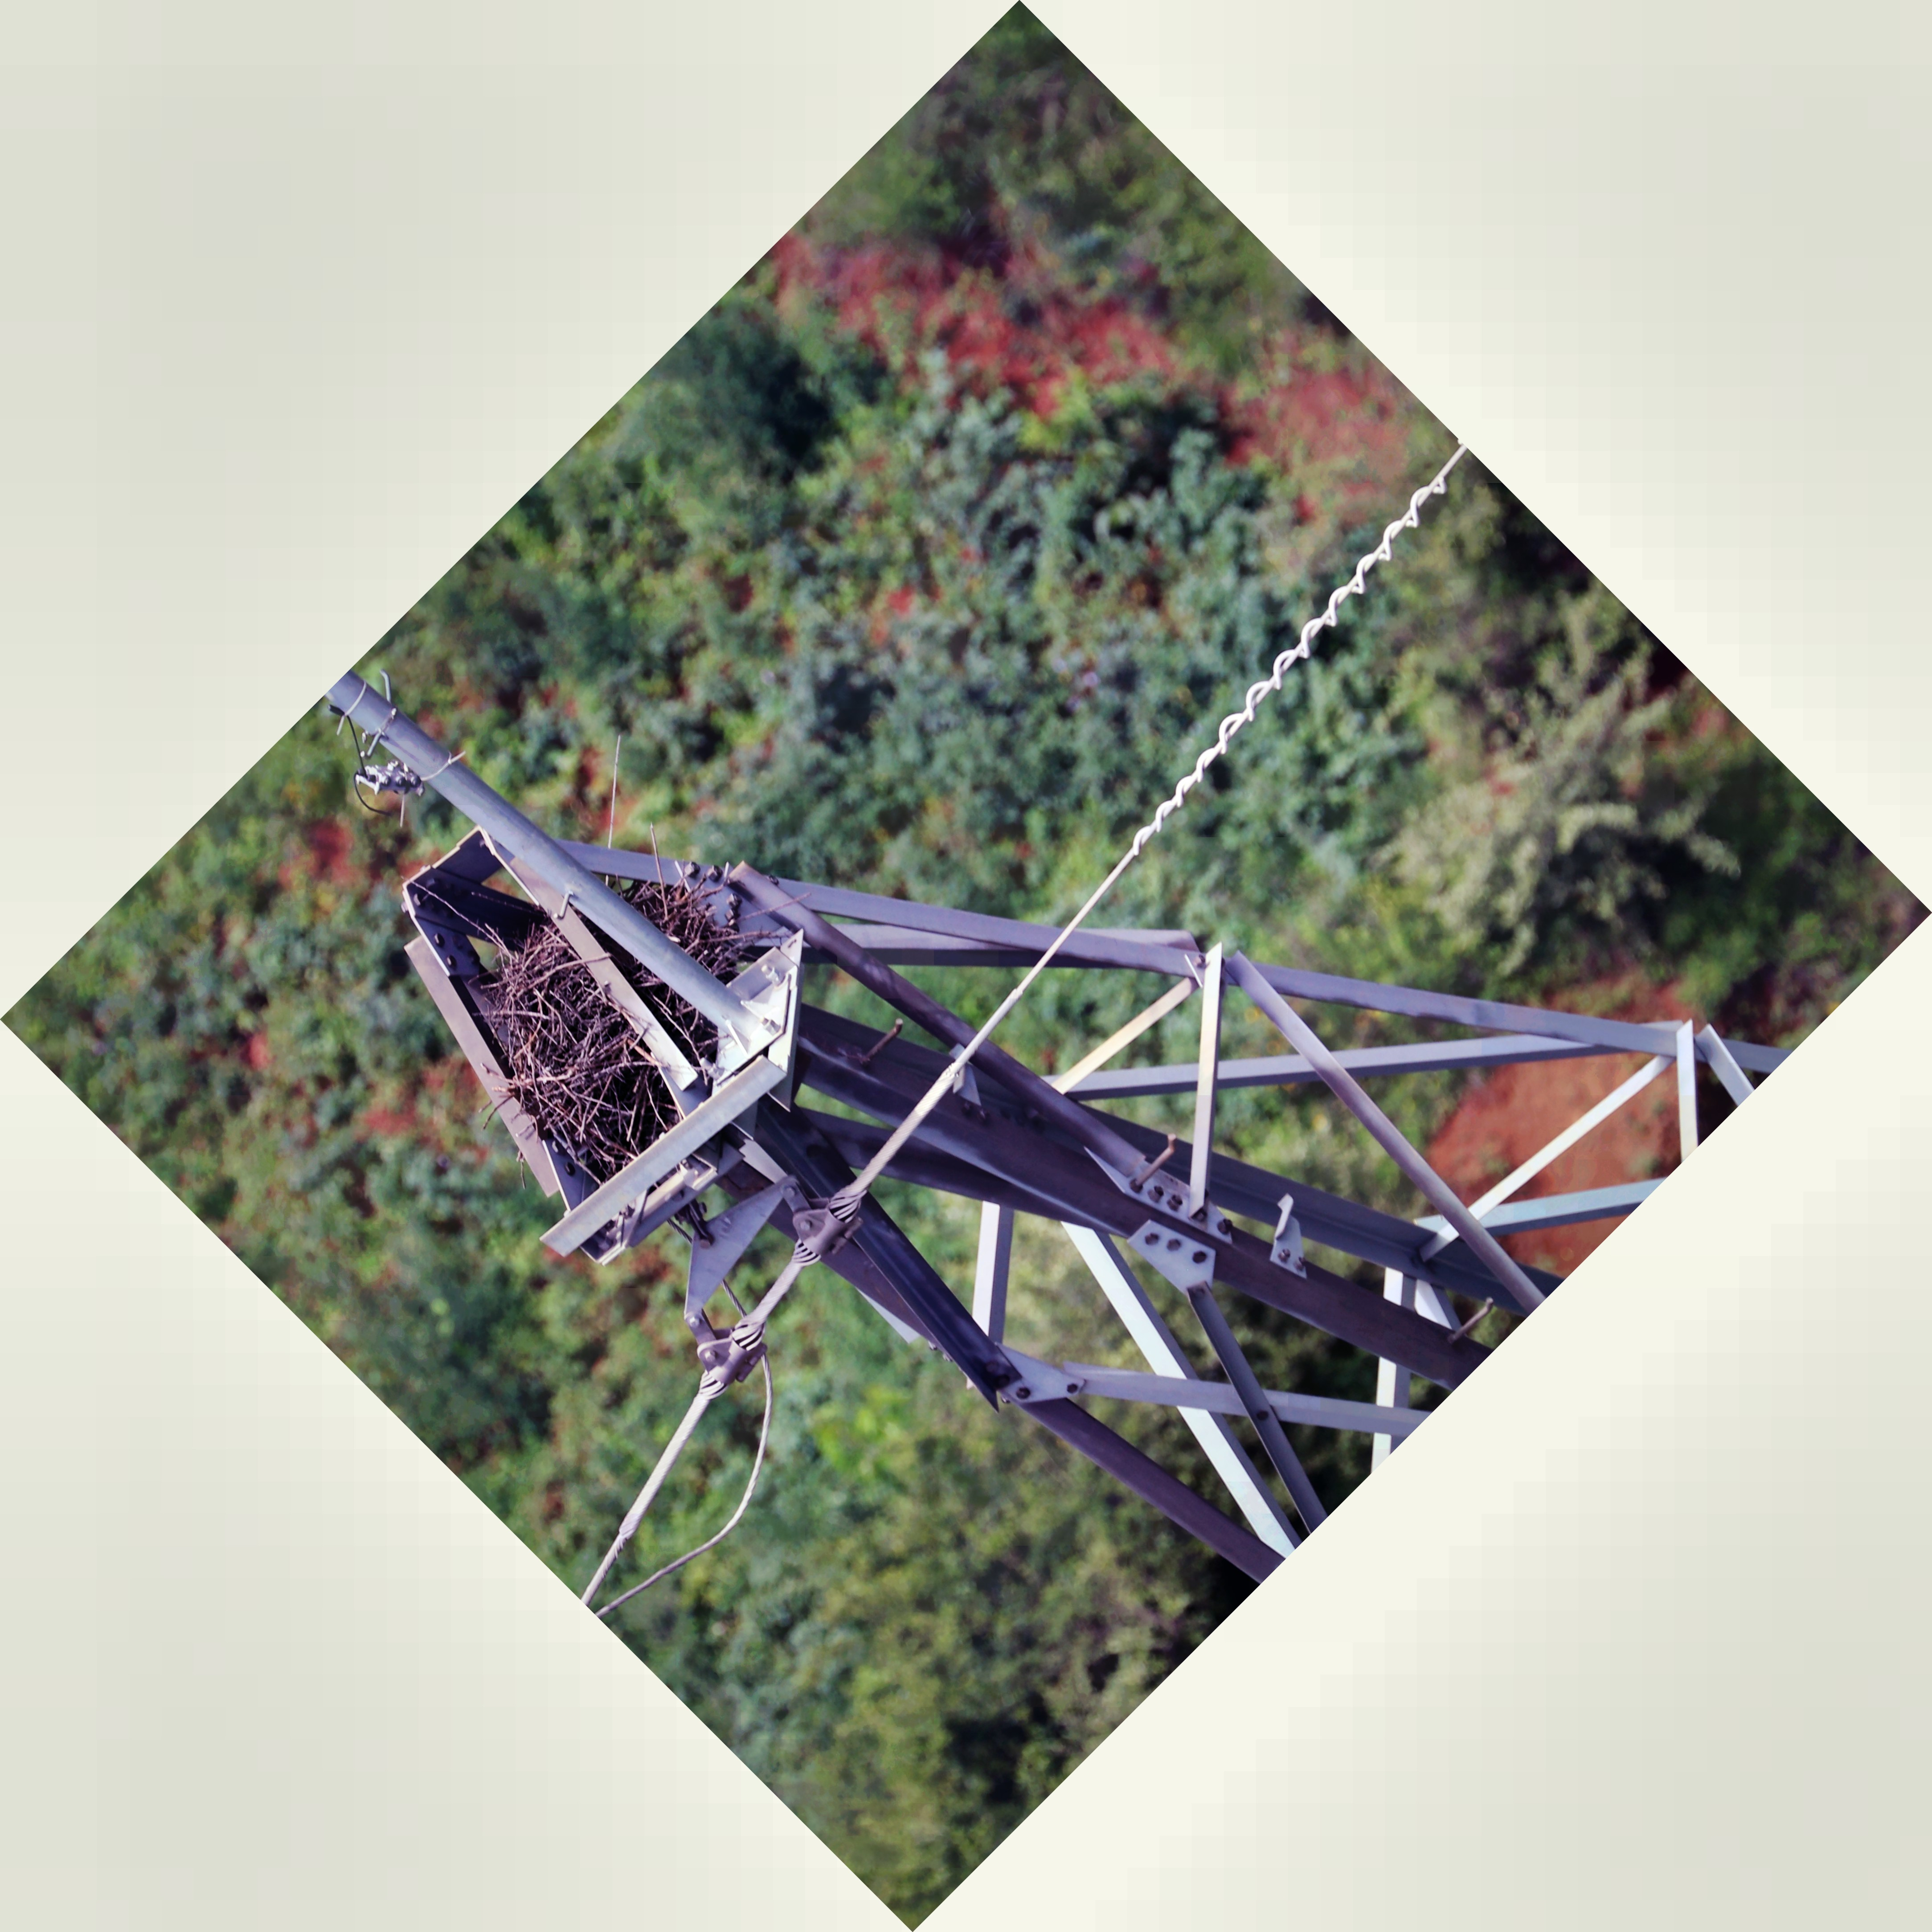niaowo: (433, 844, 771, 1194)
